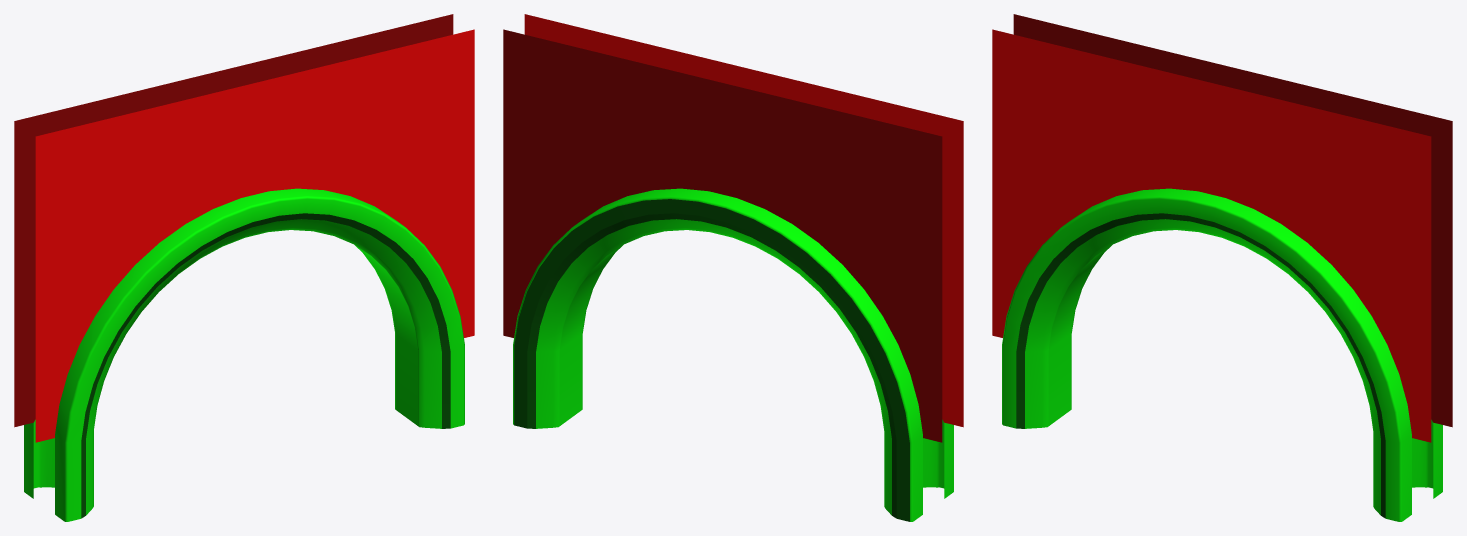
The model's file is SM_BaseWallArchLarge6mOpen.fbx.
The picture shows the model from 3 angles, left to right: view 1: azimuth 30°, elevation 25°; view 2: azimuth 150°, elevation 25°; view 3: azimuth 330°, elevation 25°; orthographic projection.
Parts seen in each view (by area): view 1: SM_BaseWallArchLarge6mOpen; view 2: SM_BaseWallArchLarge6mOpen; view 3: SM_BaseWallArchLarge6mOpen.
Boxes of the visible parts, <box> form: SM_BaseWallArchLarge6mOpen: <box>14,14,474,521</box>; SM_BaseWallArchLarge6mOpen: <box>503,14,963,521</box>; SM_BaseWallArchLarge6mOpen: <box>992,14,1452,521</box>.
Size of the model in its own units: 600 by 500 by 101.
